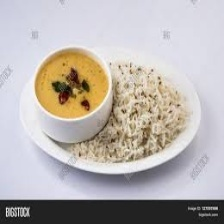dal: (32, 45, 113, 122)
